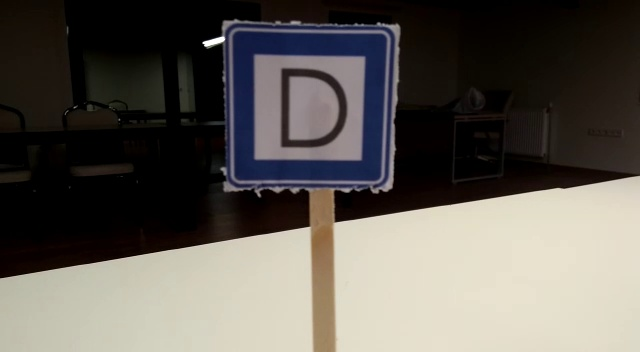durak: (227, 25, 395, 188)
